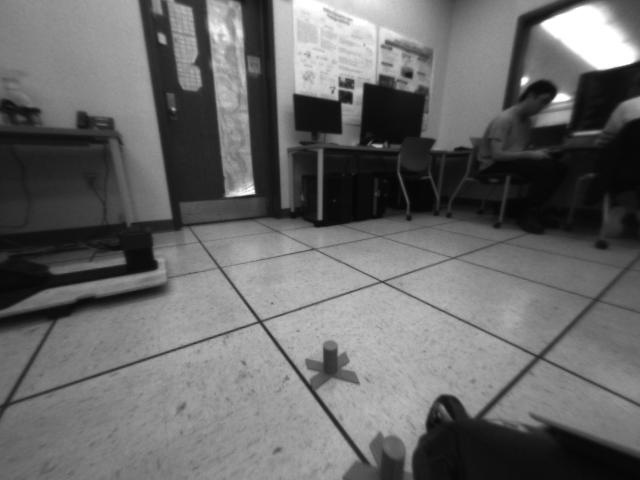X: (304, 339, 359, 391)
